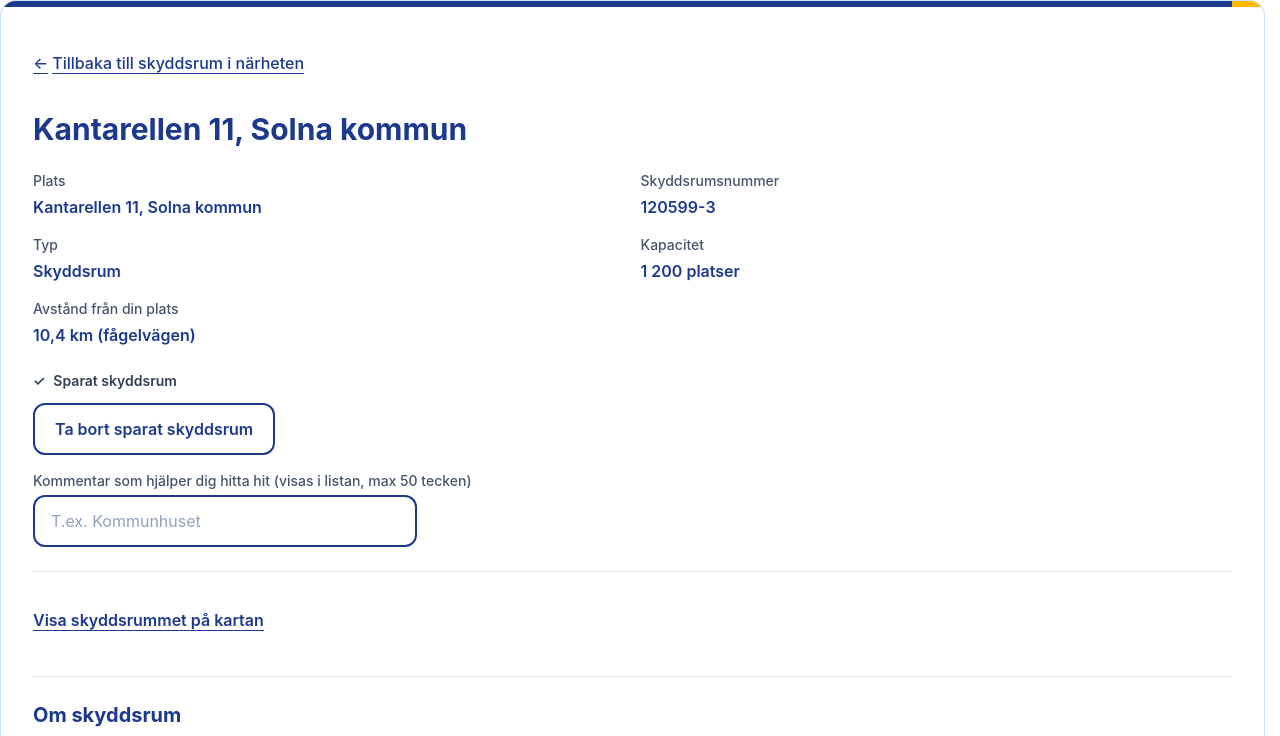
Test case: ShelterDetailPage save button › removes an already-saved shelter
Expected: the text "Sparat skyddsrum" is shown, x1=53 y1=372 x2=177 y2=389
Click the button "Ta bort sparat skyddsrum".
click(154, 429)  # box x1=33 y1=403 x2=275 y2=455
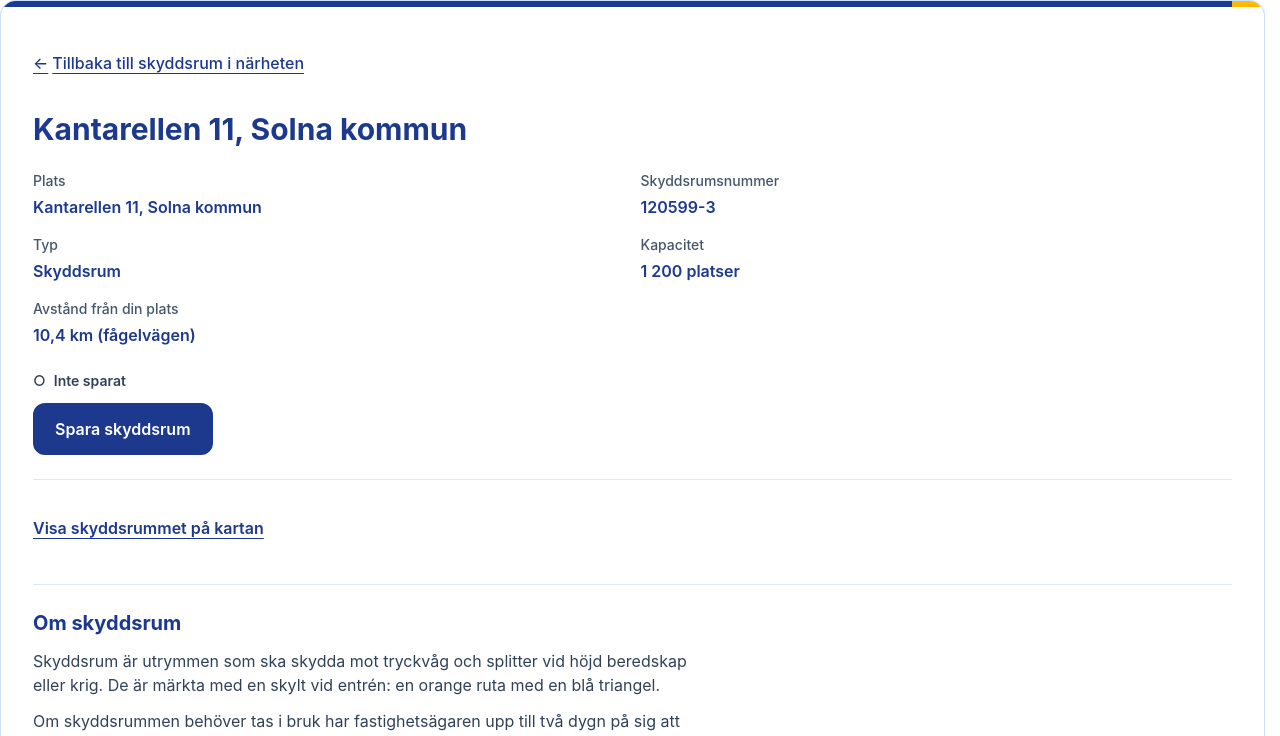
Now the button "Spara skyddsrum" is shown, box x1=33 y1=403 x2=213 y2=455
